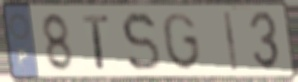3: (246, 8, 282, 74)
8: (40, 11, 74, 74)
G: (160, 11, 203, 72)
I: (222, 10, 240, 73)
S: (119, 9, 163, 74)
T: (81, 13, 112, 72)
